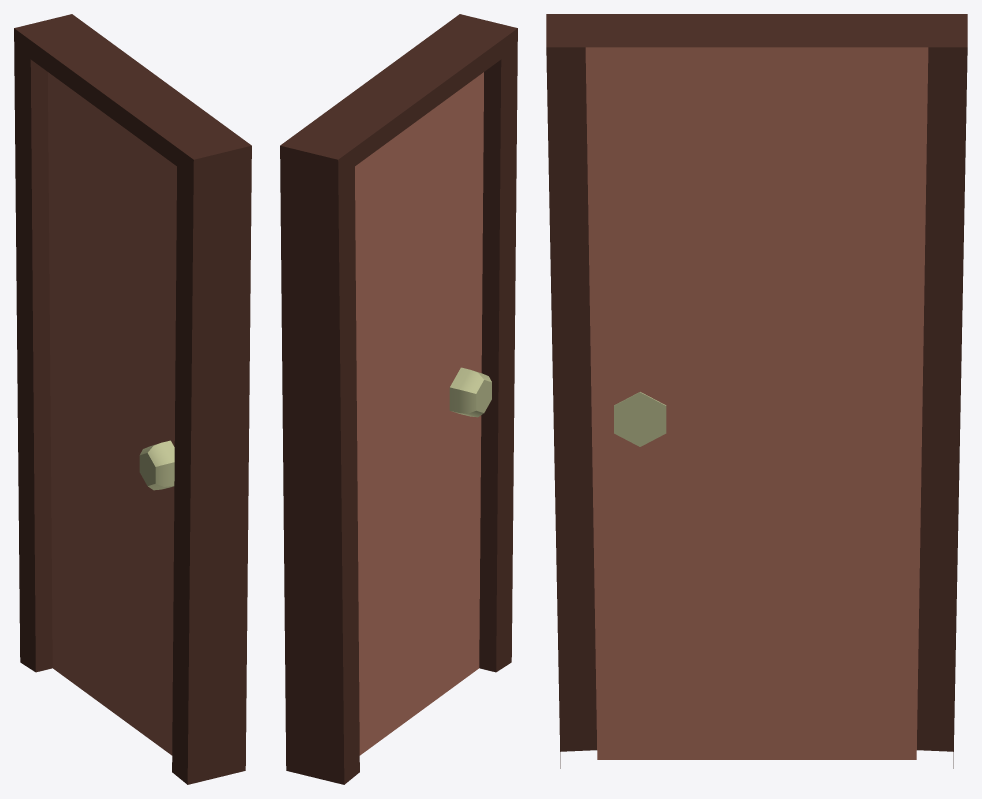
Rendered from FrontDoor.fbx.
3 views of the same model, side by side, from view 1: azimuth 30°, elevation 25°; view 2: azimuth 150°, elevation 25°; view 3: azimuth 270°, elevation 25° (orthographic). The views are drawn at different scales.
Parts seen in each view (by area): view 1: polySurface1; view 2: polySurface1; view 3: polySurface1.
Boxes of the visible parts, bbox=[...] form: polySurface1: bbox=[14, 14, 251, 784]; polySurface1: bbox=[280, 14, 517, 784]; polySurface1: bbox=[546, 14, 967, 768].
Bounding box in the file's own units: 16.81 × 157 × 81.32.
